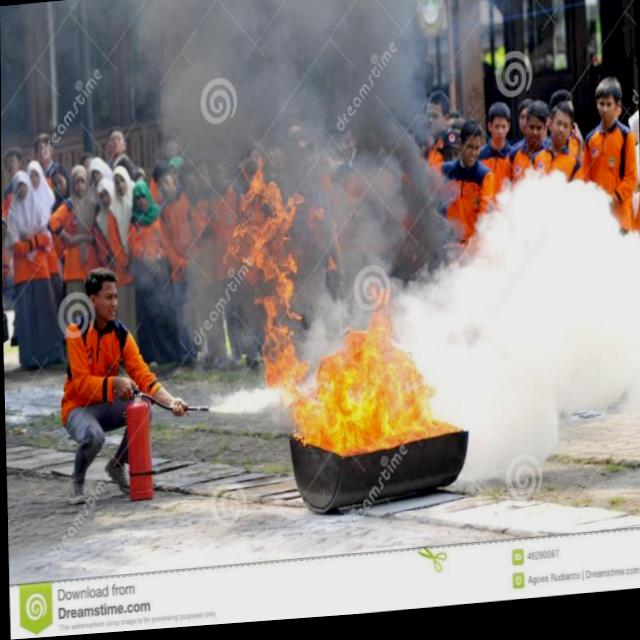FireExtinguisher: (116, 381, 215, 510)
